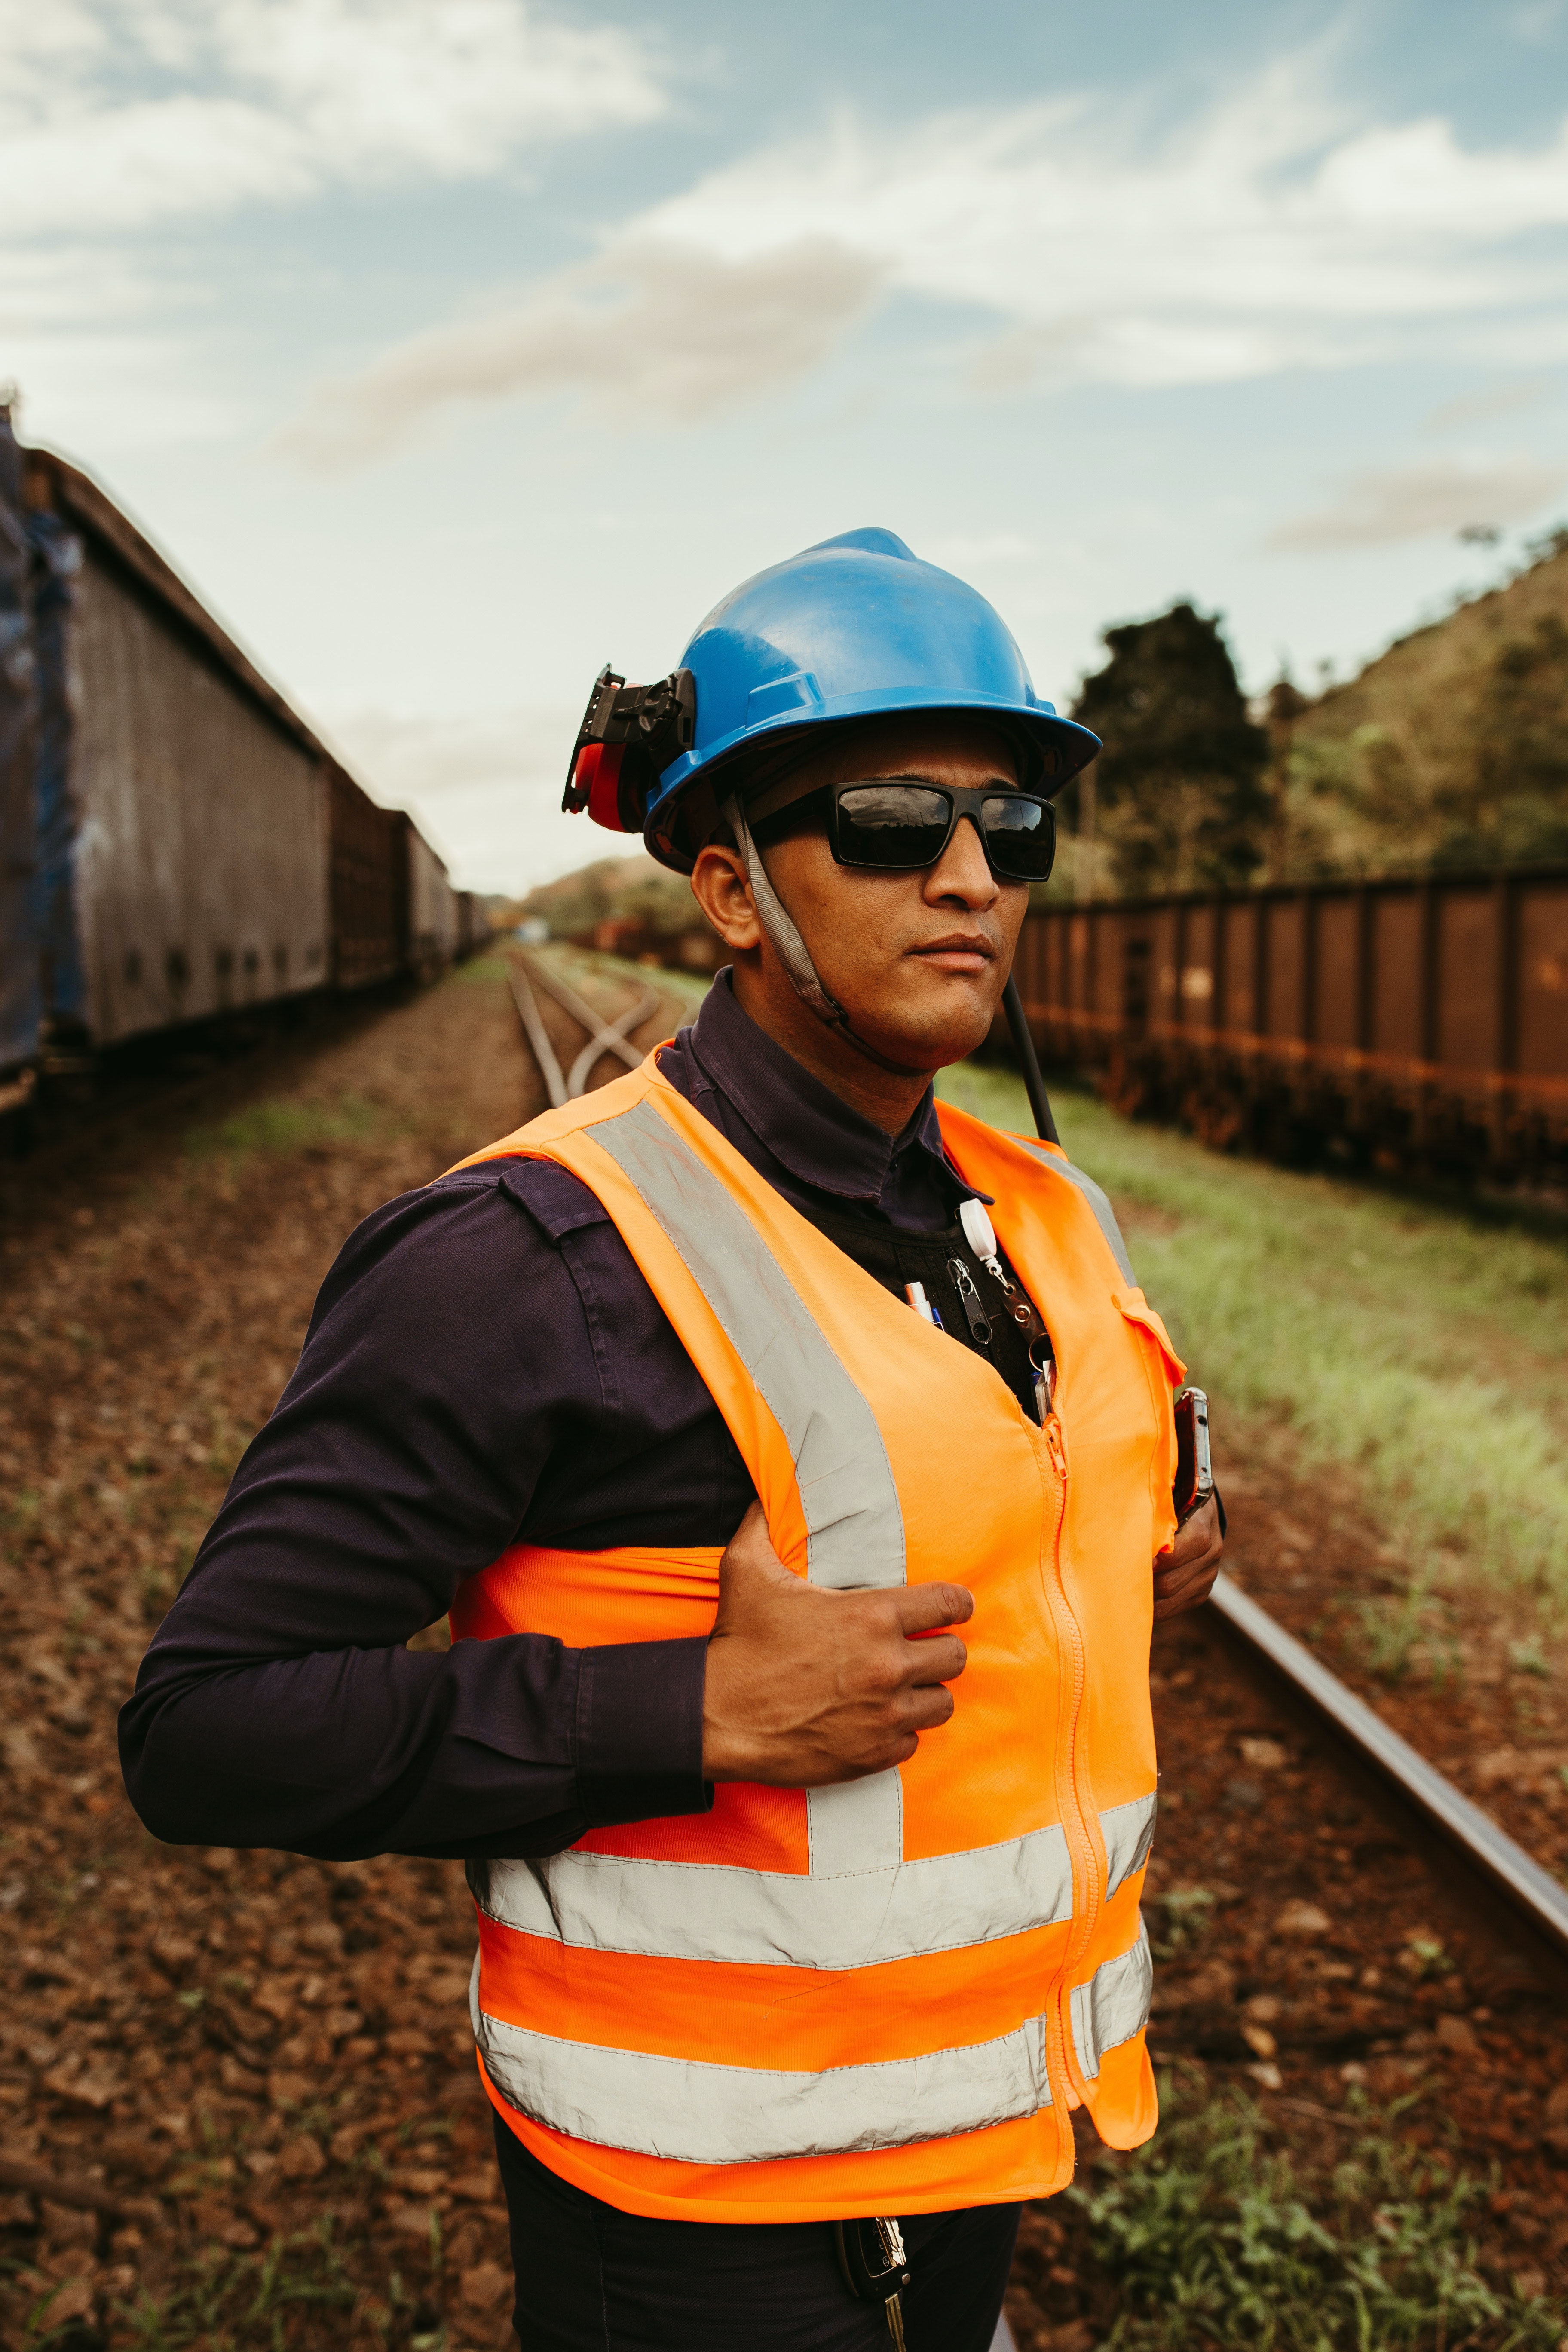Helmet: (555, 495, 1169, 1151)
Reflective vest: (366, 1024, 1197, 2243)
